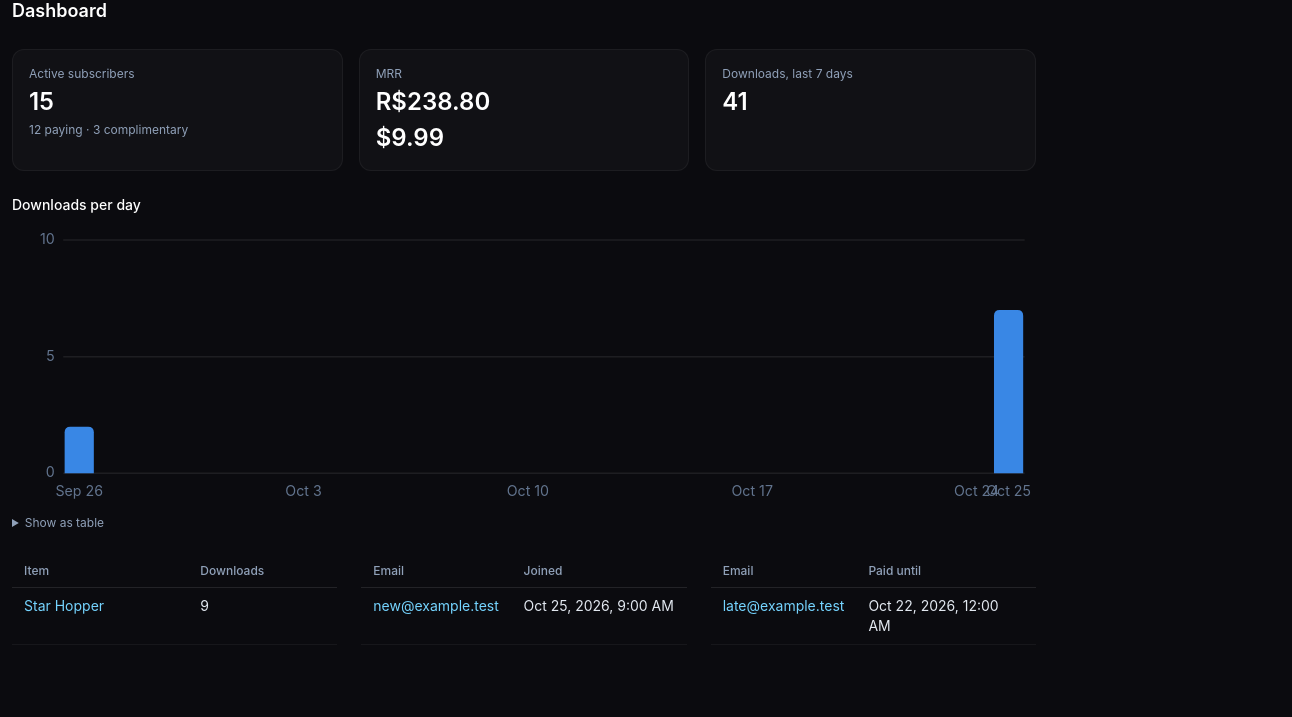
Test: Dashboard (S13, FR-ADM-6, D38, D49) › the chart has an accessible table fallback with all 30 days
The image size is (1292, 717).
Check: the picture named "Downloads per day, last 30 days" is shown, box left=12, top=223, right=1036, bottom=507
Click the heading "Show as table": coordinates (64, 523) left=25, top=515, right=104, bottom=530
(page scrolled)
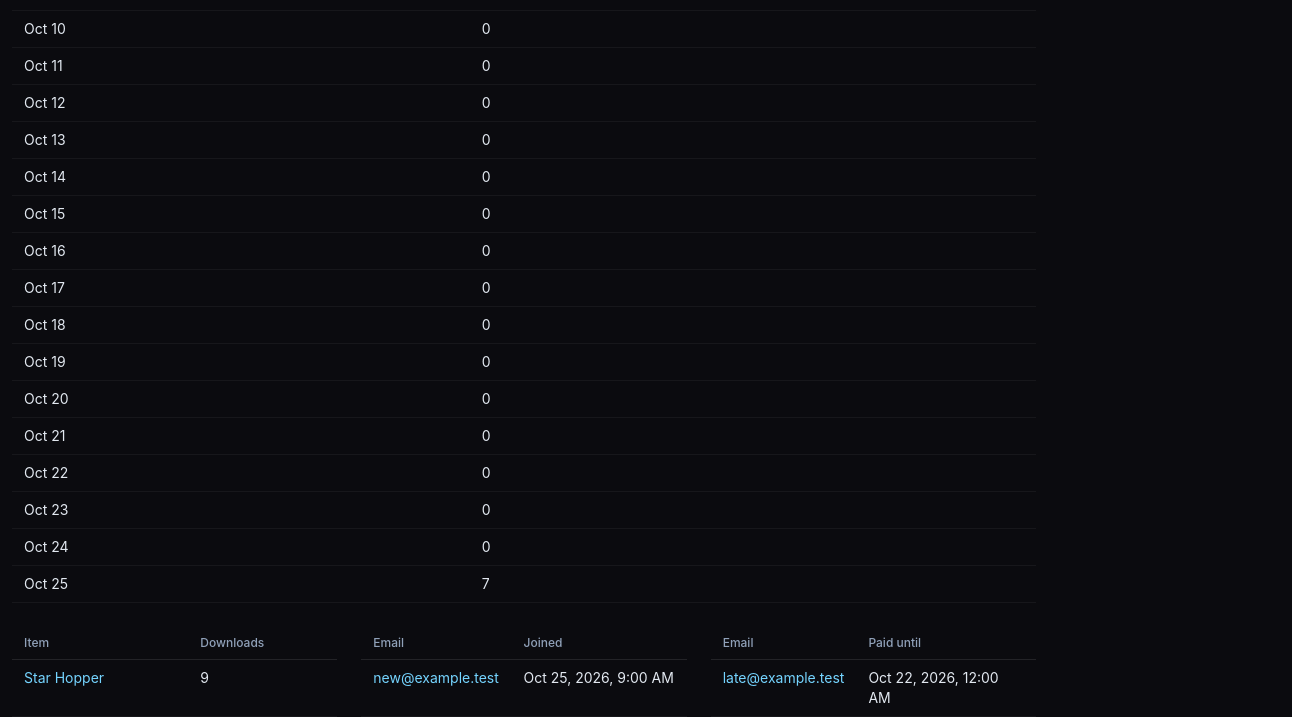
Check: the text "7" is shown, box left=470, top=566, right=1036, bottom=603
